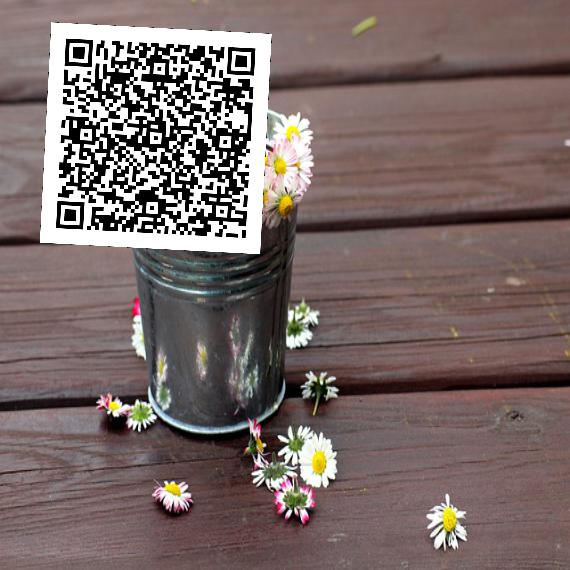qr_code: (40, 22, 271, 253)
